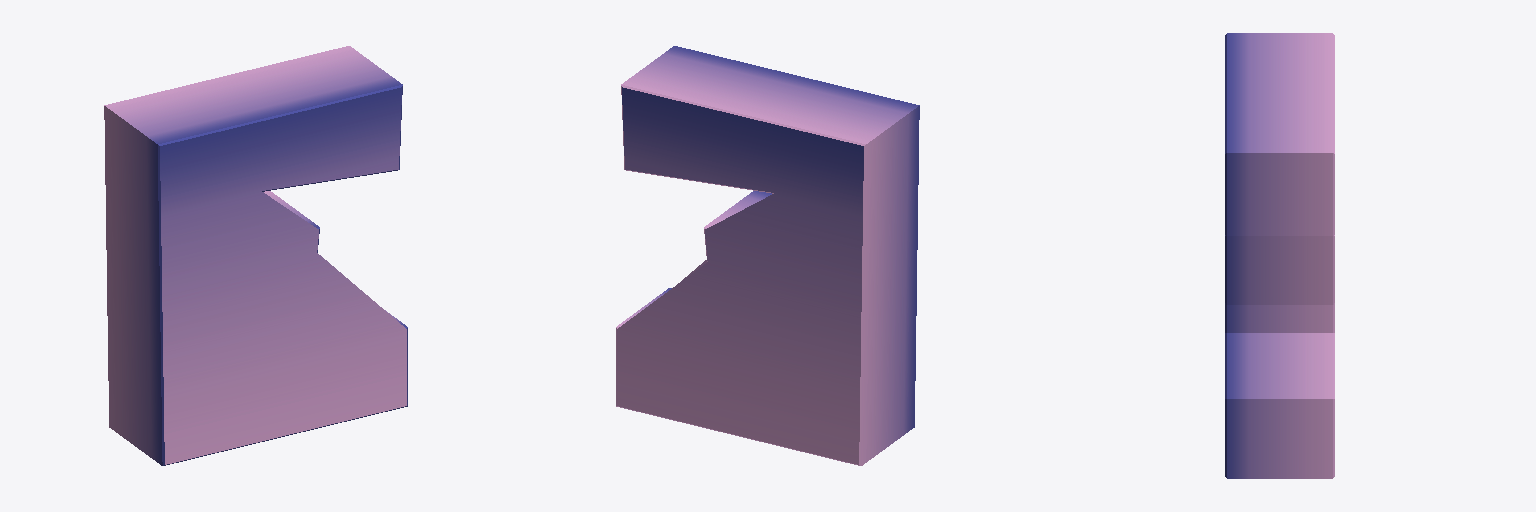
3 views of the same model, side by side, from view 1: azimuth 30°, elevation 25°; view 2: azimuth 150°, elevation 25°; view 3: azimuth 270°, elevation 25° (orthographic).
Visible parts, largest first — view 1: polySurface7; view 2: polySurface7; view 3: polySurface7.
Boxes of the visible parts, <box> form: polySurface7: <box>104,46,407,465</box>; polySurface7: <box>616,46,919,465</box>; polySurface7: <box>1225,33,1334,478</box>.
Size of the model in its own units: 1.73 by 2.13 by 0.6578.
1 materials, 1 textured.